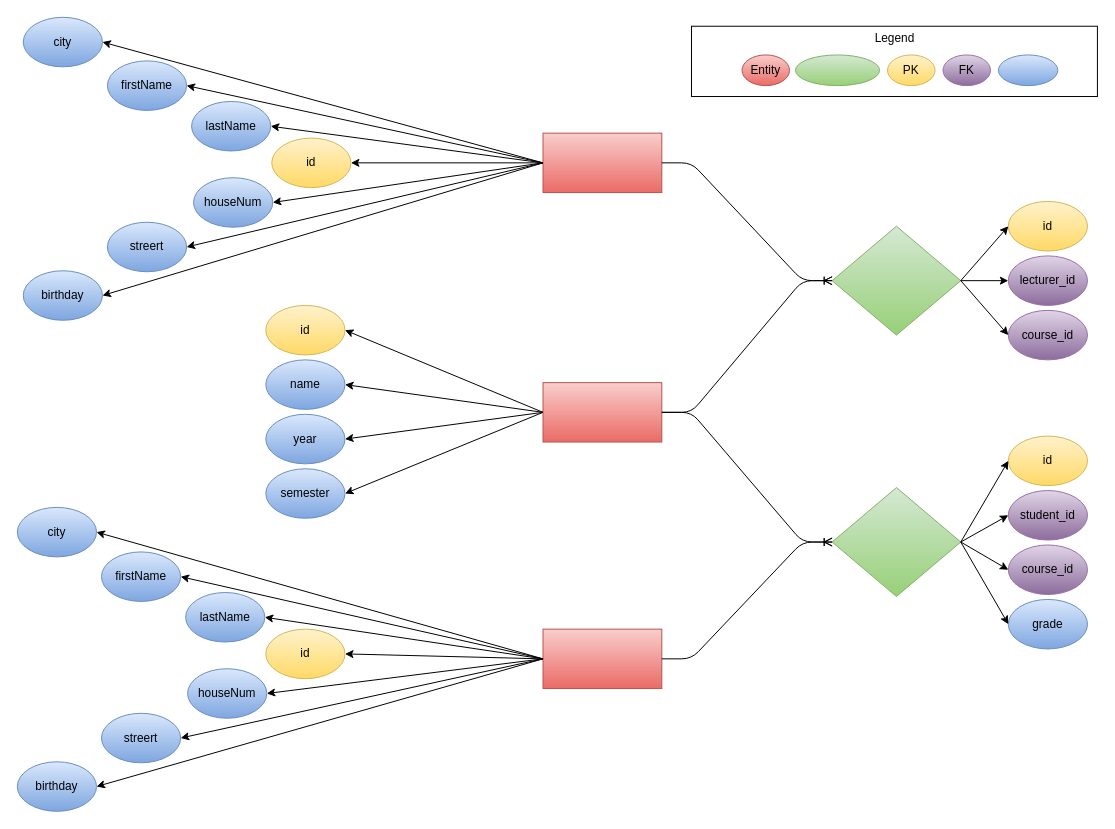
Image size: 1115x829. Some labels were removed from this diagram. Each missing label, with the centre of its shape:
Column: point 1027,70
Connector Table: point 837,70
Courses: point 602,412
StudentCourses: point 896,541
Students: point 602,162
TeacherCourses: point 896,280
Teachers: point 602,658
